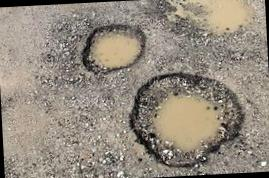pothole: (124, 65, 252, 175), (164, 0, 266, 44), (76, 20, 145, 78)
